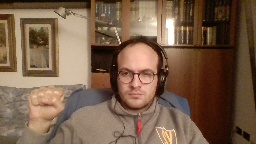Pugno: (26, 83, 66, 122)
